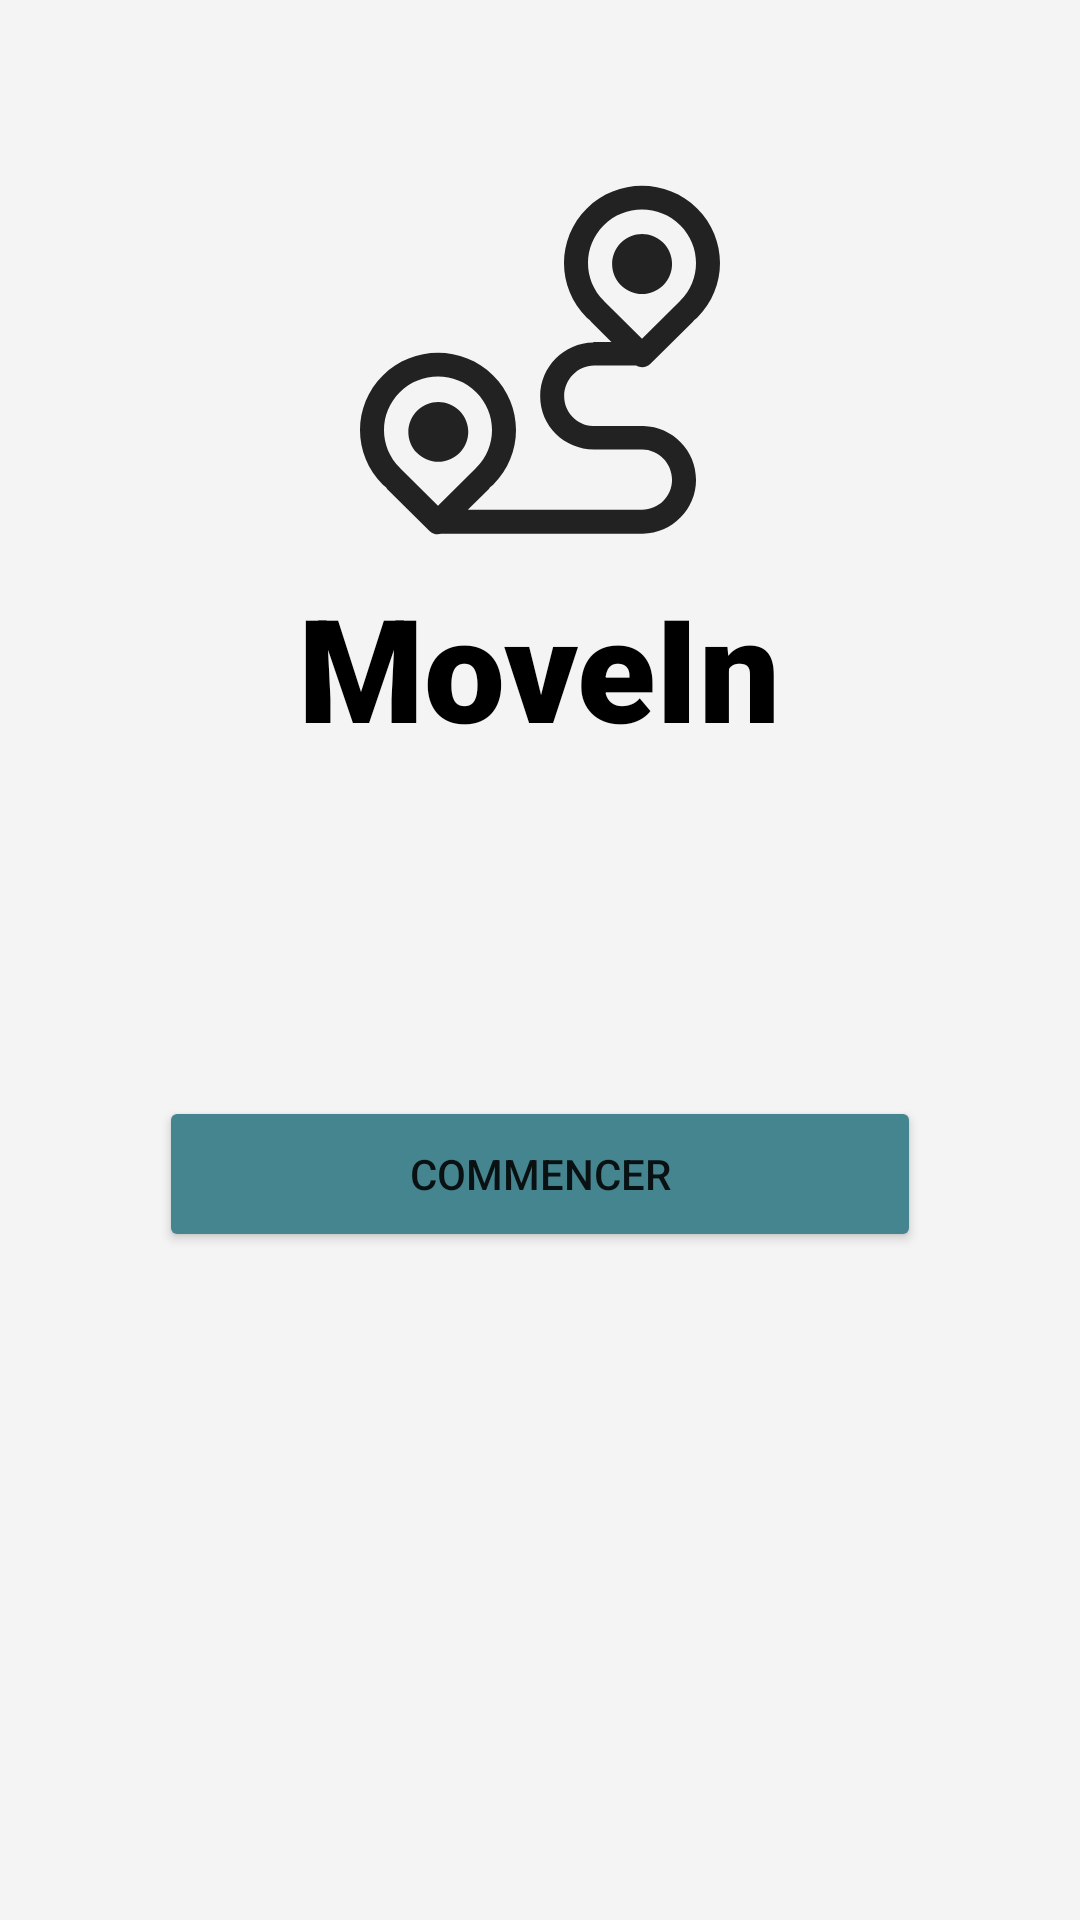

Screen size 1080×1920. Icon name, then its center in pixels as (x=x, y=y):
route: (x=540, y=360)
